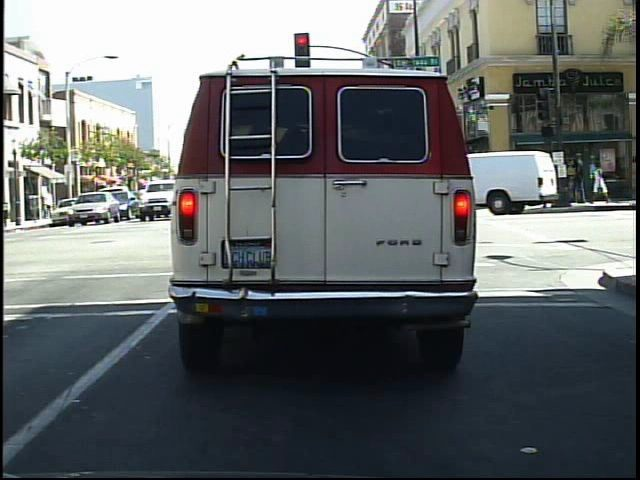person: (568, 143, 594, 210), (589, 155, 615, 206), (537, 154, 561, 208), (515, 156, 537, 208)
